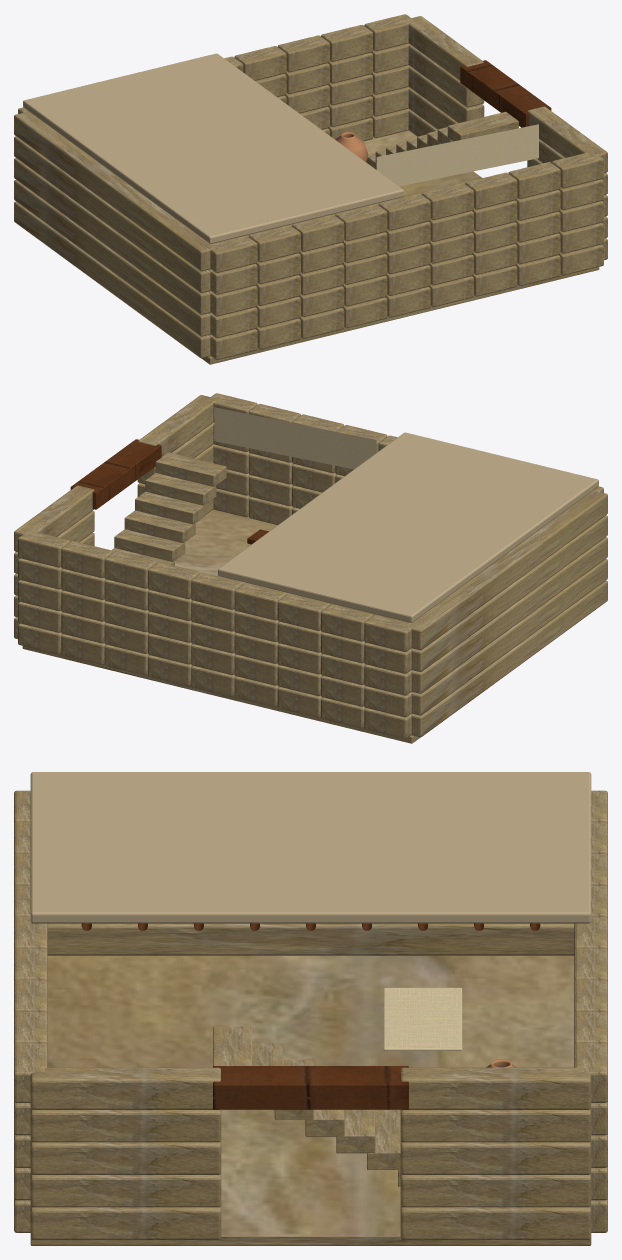
The model's file is habitacao.glb.
The picture shows the model from 3 angles, top to bottom: view 1: azimuth 30°, elevation 25°; view 2: azimuth 150°, elevation 25°; view 3: azimuth 270°, elevation 25°; orthographic projection. The views are drawn at different scales.
Visible parts, largest first — view 1: Terra sobre vigas, Parede posterior.004, Toldo do pátio, Parede posterior.001, Parede posterior, Parede posterior.002, Parede posterior.003, Piso do pátio, Verga da entrada, Lateral da porta.009, Lateral da porta.004, Lateral da porta.007 (+64 smaller); view 2: Terra sobre vigas, Parede posterior.004, Toldo do pátio, Piso do pátio, Parede posterior.001, Parede posterior, Parede posterior.002, Parede posterior.003, Verga da entrada, Lateral da porta.004, Lateral da porta.009, Degrau da escada.008 (+61 smaller); view 3: Terra sobre vigas, Piso do pátio, Parede posterior, Verga da entrada, Lateral da porta.004, Lateral da porta.009, Lateral da porta, Lateral da porta.005, Lateral da porta.001, Lateral da porta.002, Lateral da porta.006, Lateral da porta.007 (+18 smaller).
Part boxes in pixels (x1=…): Terra sobre vigas: x1=23, y1=53, x2=403, y2=243; Parede posterior.004: x1=14, y1=112, x2=215, y2=271; Toldo do pátio: x1=376, y1=124, x2=538, y2=186; Parede posterior.001: x1=14, y1=180, x2=211, y2=336; Parede posterior: x1=14, y1=201, x2=210, y2=358; Parede posterior.002: x1=14, y1=158, x2=210, y2=314; Parede posterior.003: x1=14, y1=136, x2=210, y2=292; Piso do pátio: x1=201, y1=130, x2=599, y2=364; Verga da entrada: x1=460, y1=60, x2=551, y2=127; Lateral da porta.009: x1=406, y1=16, x2=483, y2=80; Lateral da porta.004: x1=527, y1=106, x2=607, y2=172; Lateral da porta.007: x1=408, y1=66, x2=484, y2=123; Terra sobre vigas: x1=218, y1=432, x2=598, y2=622; Parede posterior.004: x1=406, y1=491, x2=607, y2=650; Toldo do pátio: x1=214, y1=407, x2=376, y2=469; Piso do pátio: x1=22, y1=509, x2=420, y2=743; Parede posterior.001: x1=410, y1=559, x2=607, y2=715; Parede posterior: x1=411, y1=580, x2=607, y2=737; Parede posterior.002: x1=411, y1=537, x2=607, y2=693; Parede posterior.003: x1=411, y1=515, x2=607, y2=671; Verga da entrada: x1=70, y1=439, x2=161, y2=509; Lateral da porta.004: x1=138, y1=395, x2=215, y2=456; Lateral da porta.009: x1=14, y1=485, x2=94, y2=551; Degrau da escada.008: x1=155, y1=452, x2=226, y2=486; Terra sobre vigas: x1=30, y1=772, x2=591, y2=923; Piso do pátio: x1=30, y1=955, x2=591, y2=1245; Parede posterior: x1=47, y1=923, x2=574, y2=955; Verga da entrada: x1=213, y1=1066, x2=408, y2=1109; Lateral da porta.004: x1=30, y1=1067, x2=220, y2=1109; Lateral da porta.009: x1=401, y1=1067, x2=591, y2=1109; Lateral da porta: x1=30, y1=1205, x2=221, y2=1239; Lateral da porta.005: x1=400, y1=1205, x2=591, y2=1239; Lateral da porta.001: x1=30, y1=1173, x2=221, y2=1207; Lateral da porta.002: x1=30, y1=1140, x2=221, y2=1174; Lateral da porta.006: x1=400, y1=1173, x2=591, y2=1207; Lateral da porta.007: x1=400, y1=1140, x2=591, y2=1174.
Bounding box in the file's own units: 12.68 × 4.12 × 10.6.
Materials: 5 (3 with a texture image).
